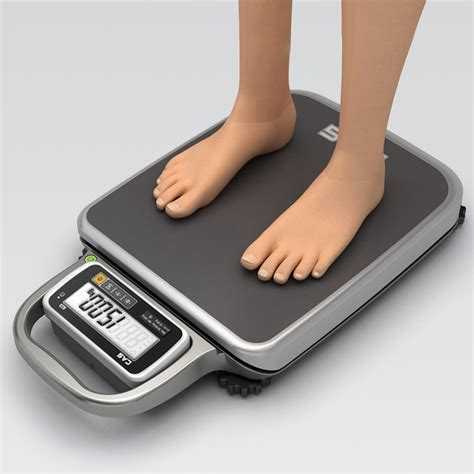Industrial Scale: (10, 85, 467, 417)
